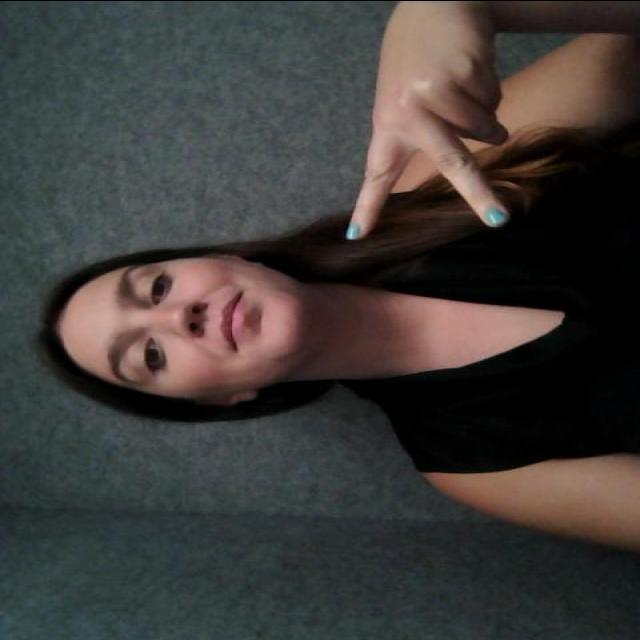Scissors: (332, 5, 530, 248)
